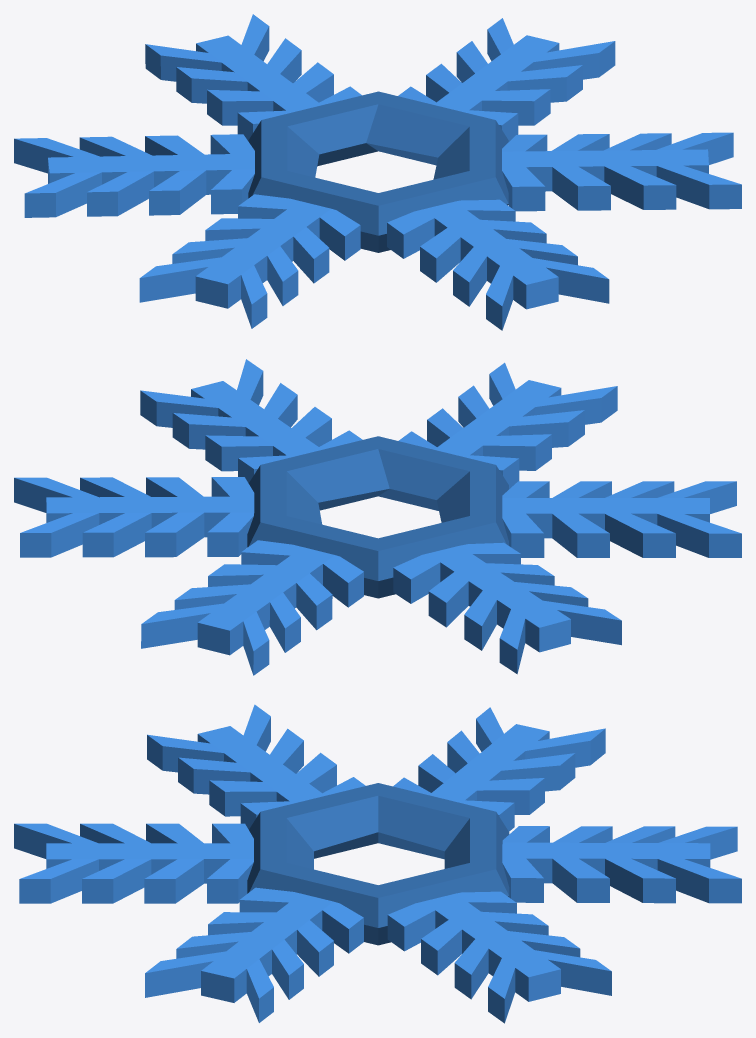
Rendered from Freeze.fbx.
The picture shows the model from 3 angles, top to bottom: view 1: azimuth 30°, elevation 25°; view 2: azimuth 150°, elevation 25°; view 3: azimuth 270°, elevation 25°; orthographic projection.
Parts seen in each view (by area): view 1: Freeze; view 2: Freeze; view 3: Freeze.
Boxes of the visible parts, left/top/right/bottom form: Freeze: left=14, top=14, right=741, bottom=330; Freeze: left=14, top=359, right=741, bottom=675; Freeze: left=14, top=704, right=741, bottom=1023.
Bounding box in the file's own units: 5.76 × 0.433 × 6.02.
